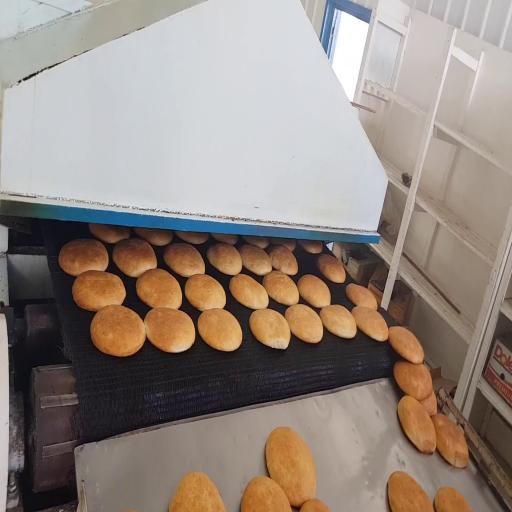bread: (266, 427, 316, 506), (91, 305, 145, 356), (144, 308, 195, 353), (169, 472, 225, 511), (398, 396, 436, 453), (72, 271, 125, 311), (432, 414, 468, 467), (198, 309, 242, 351), (136, 269, 182, 309), (59, 239, 108, 276), (388, 472, 433, 511), (241, 476, 291, 511), (113, 238, 157, 277), (250, 309, 290, 349), (285, 304, 323, 343), (185, 275, 226, 311), (394, 362, 432, 400), (164, 243, 205, 277), (230, 274, 268, 309), (351, 306, 388, 341), (263, 271, 299, 305), (389, 327, 423, 363), (320, 305, 356, 338), (207, 243, 242, 275), (298, 275, 330, 308), (239, 244, 271, 275), (269, 245, 298, 275), (435, 487, 471, 511), (346, 284, 377, 310), (317, 255, 345, 283), (89, 224, 130, 243), (135, 228, 172, 246), (175, 231, 209, 244), (420, 391, 437, 416), (300, 499, 330, 511), (211, 233, 238, 245), (299, 240, 322, 254), (271, 238, 295, 251), (243, 236, 269, 248)
